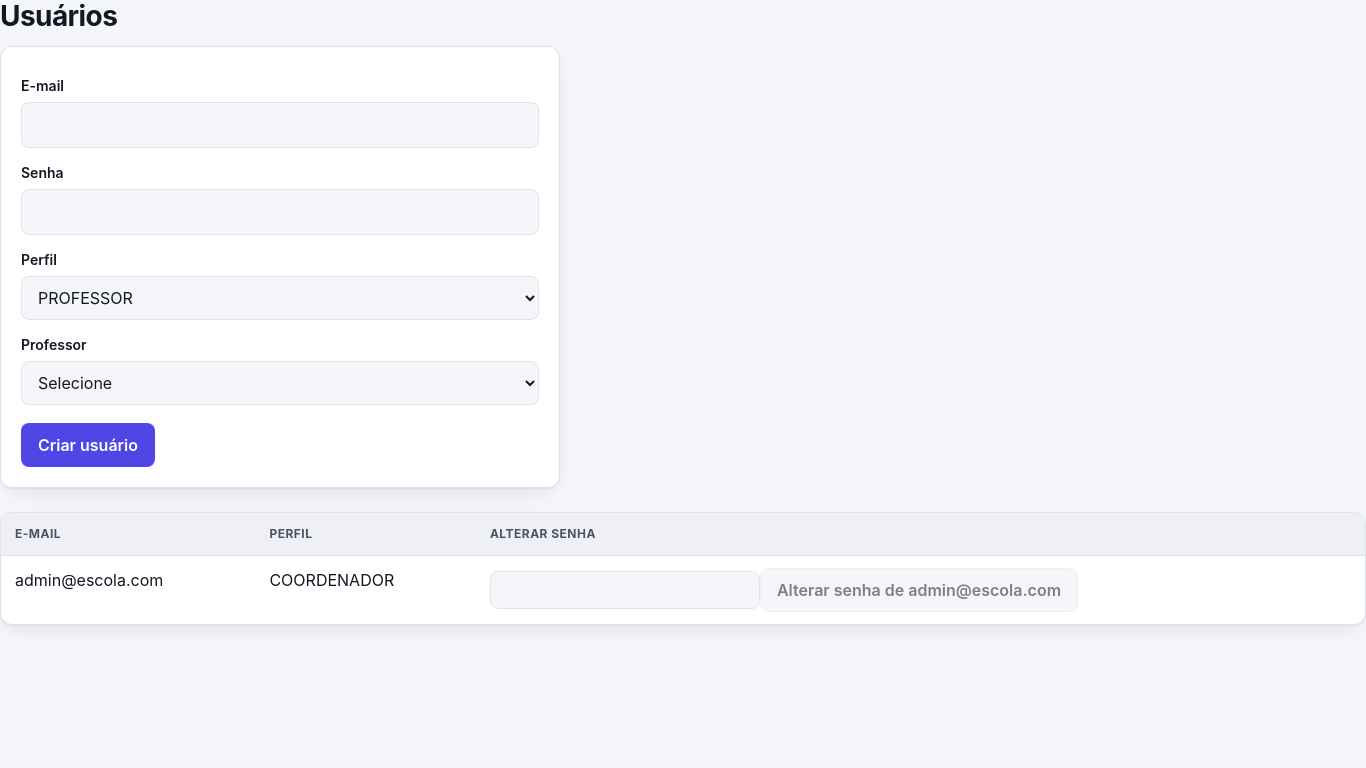
Test: UsuariosPage › creates a valid usuário, shows "Salvo com sucesso" and lists it
Check: the text "admin@escola.com" is shown, box [1,556,255,624]
Type "maria@escola.com" into the field labelled "E-mail" at {"x": 280, "y": 125}, box [21,102,539,148]
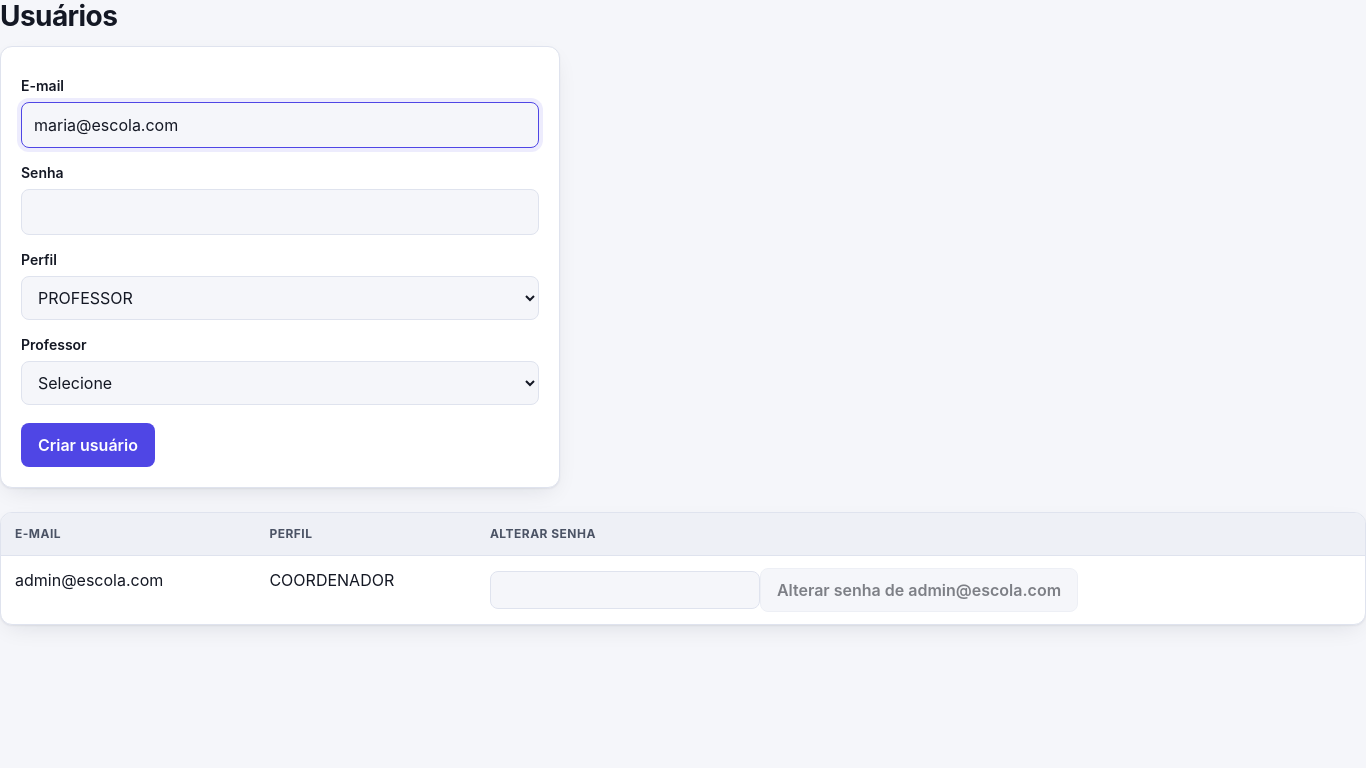
Type "SenhaForte1" into the password field labelled "Senha" at {"x": 280, "y": 212}, box [21,189,539,235]
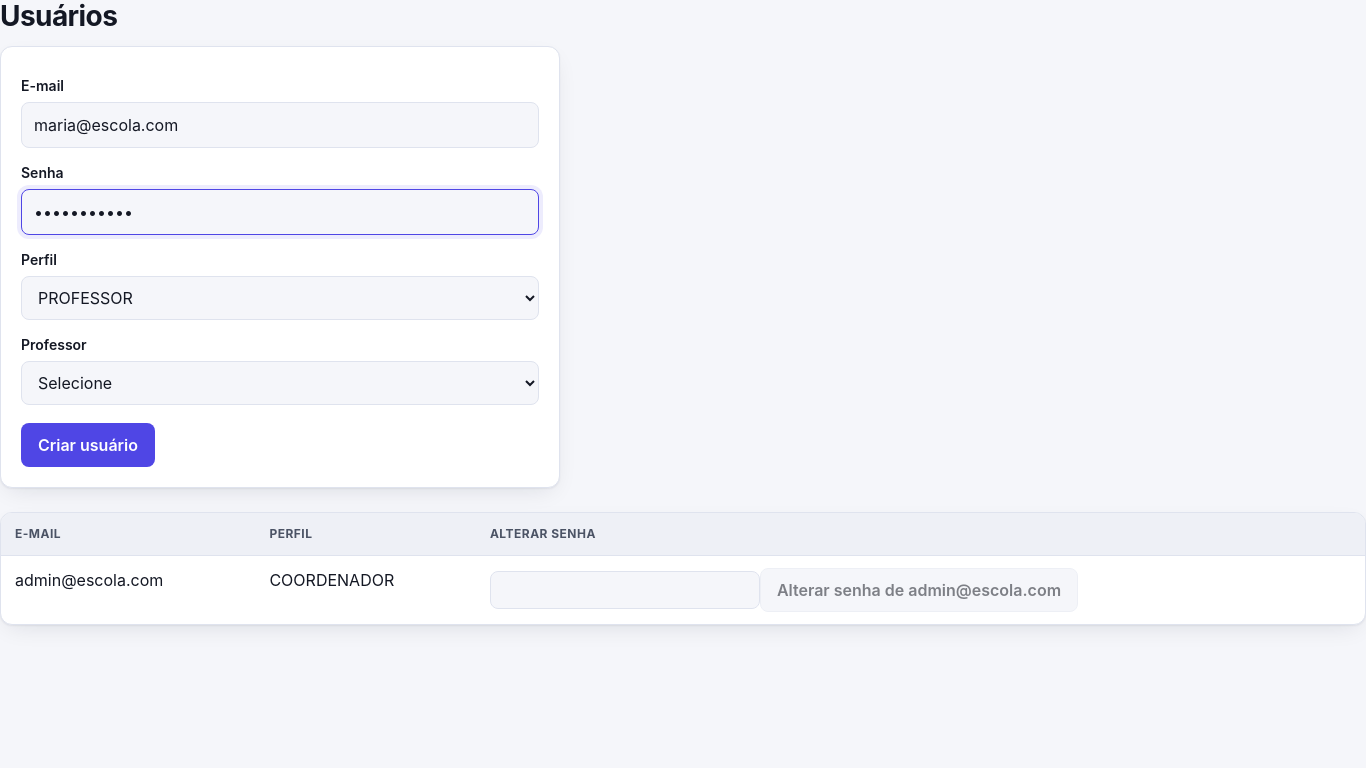
Select "Maria Souza" in the dropdown labelled "Professor" at {"x": 280, "y": 383}, box [21,361,539,405]
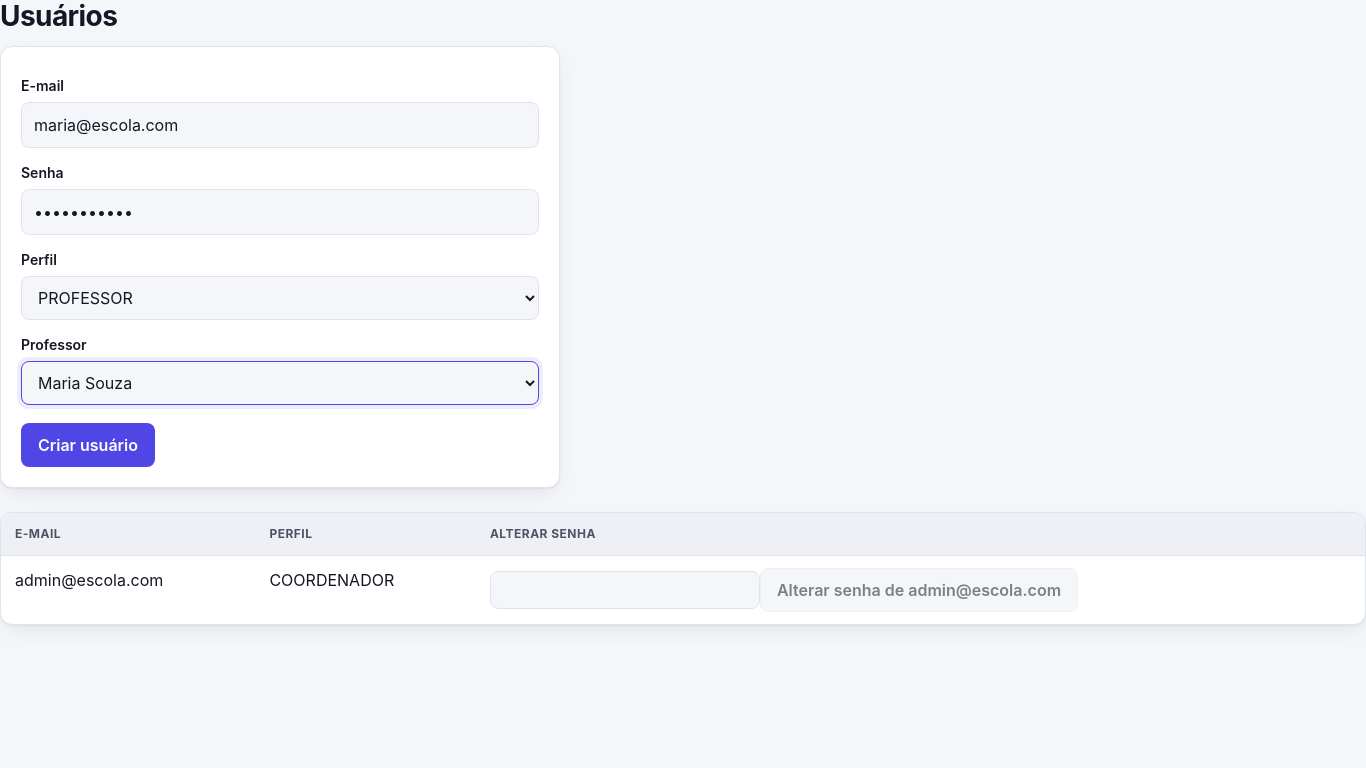
Click the button "Criar usuário" at {"x": 88, "y": 445}, box [21,423,155,467]
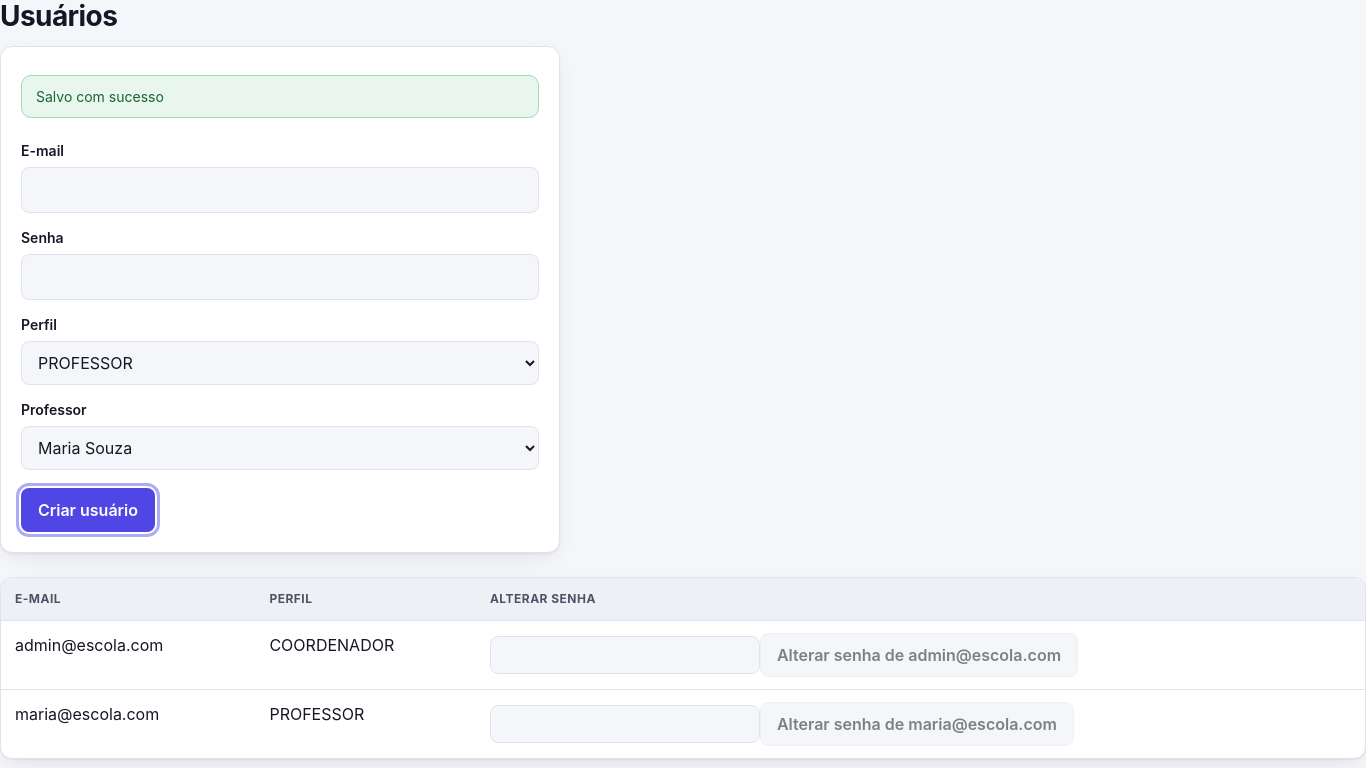
Check: the text "Salvo com sucesso" is shown, box [21,75,539,118]
Check: the text "maria@escola.com" is shown, box [1,690,255,758]
Check: the password field labelled "Senha" is empty, box [21,254,539,300]
